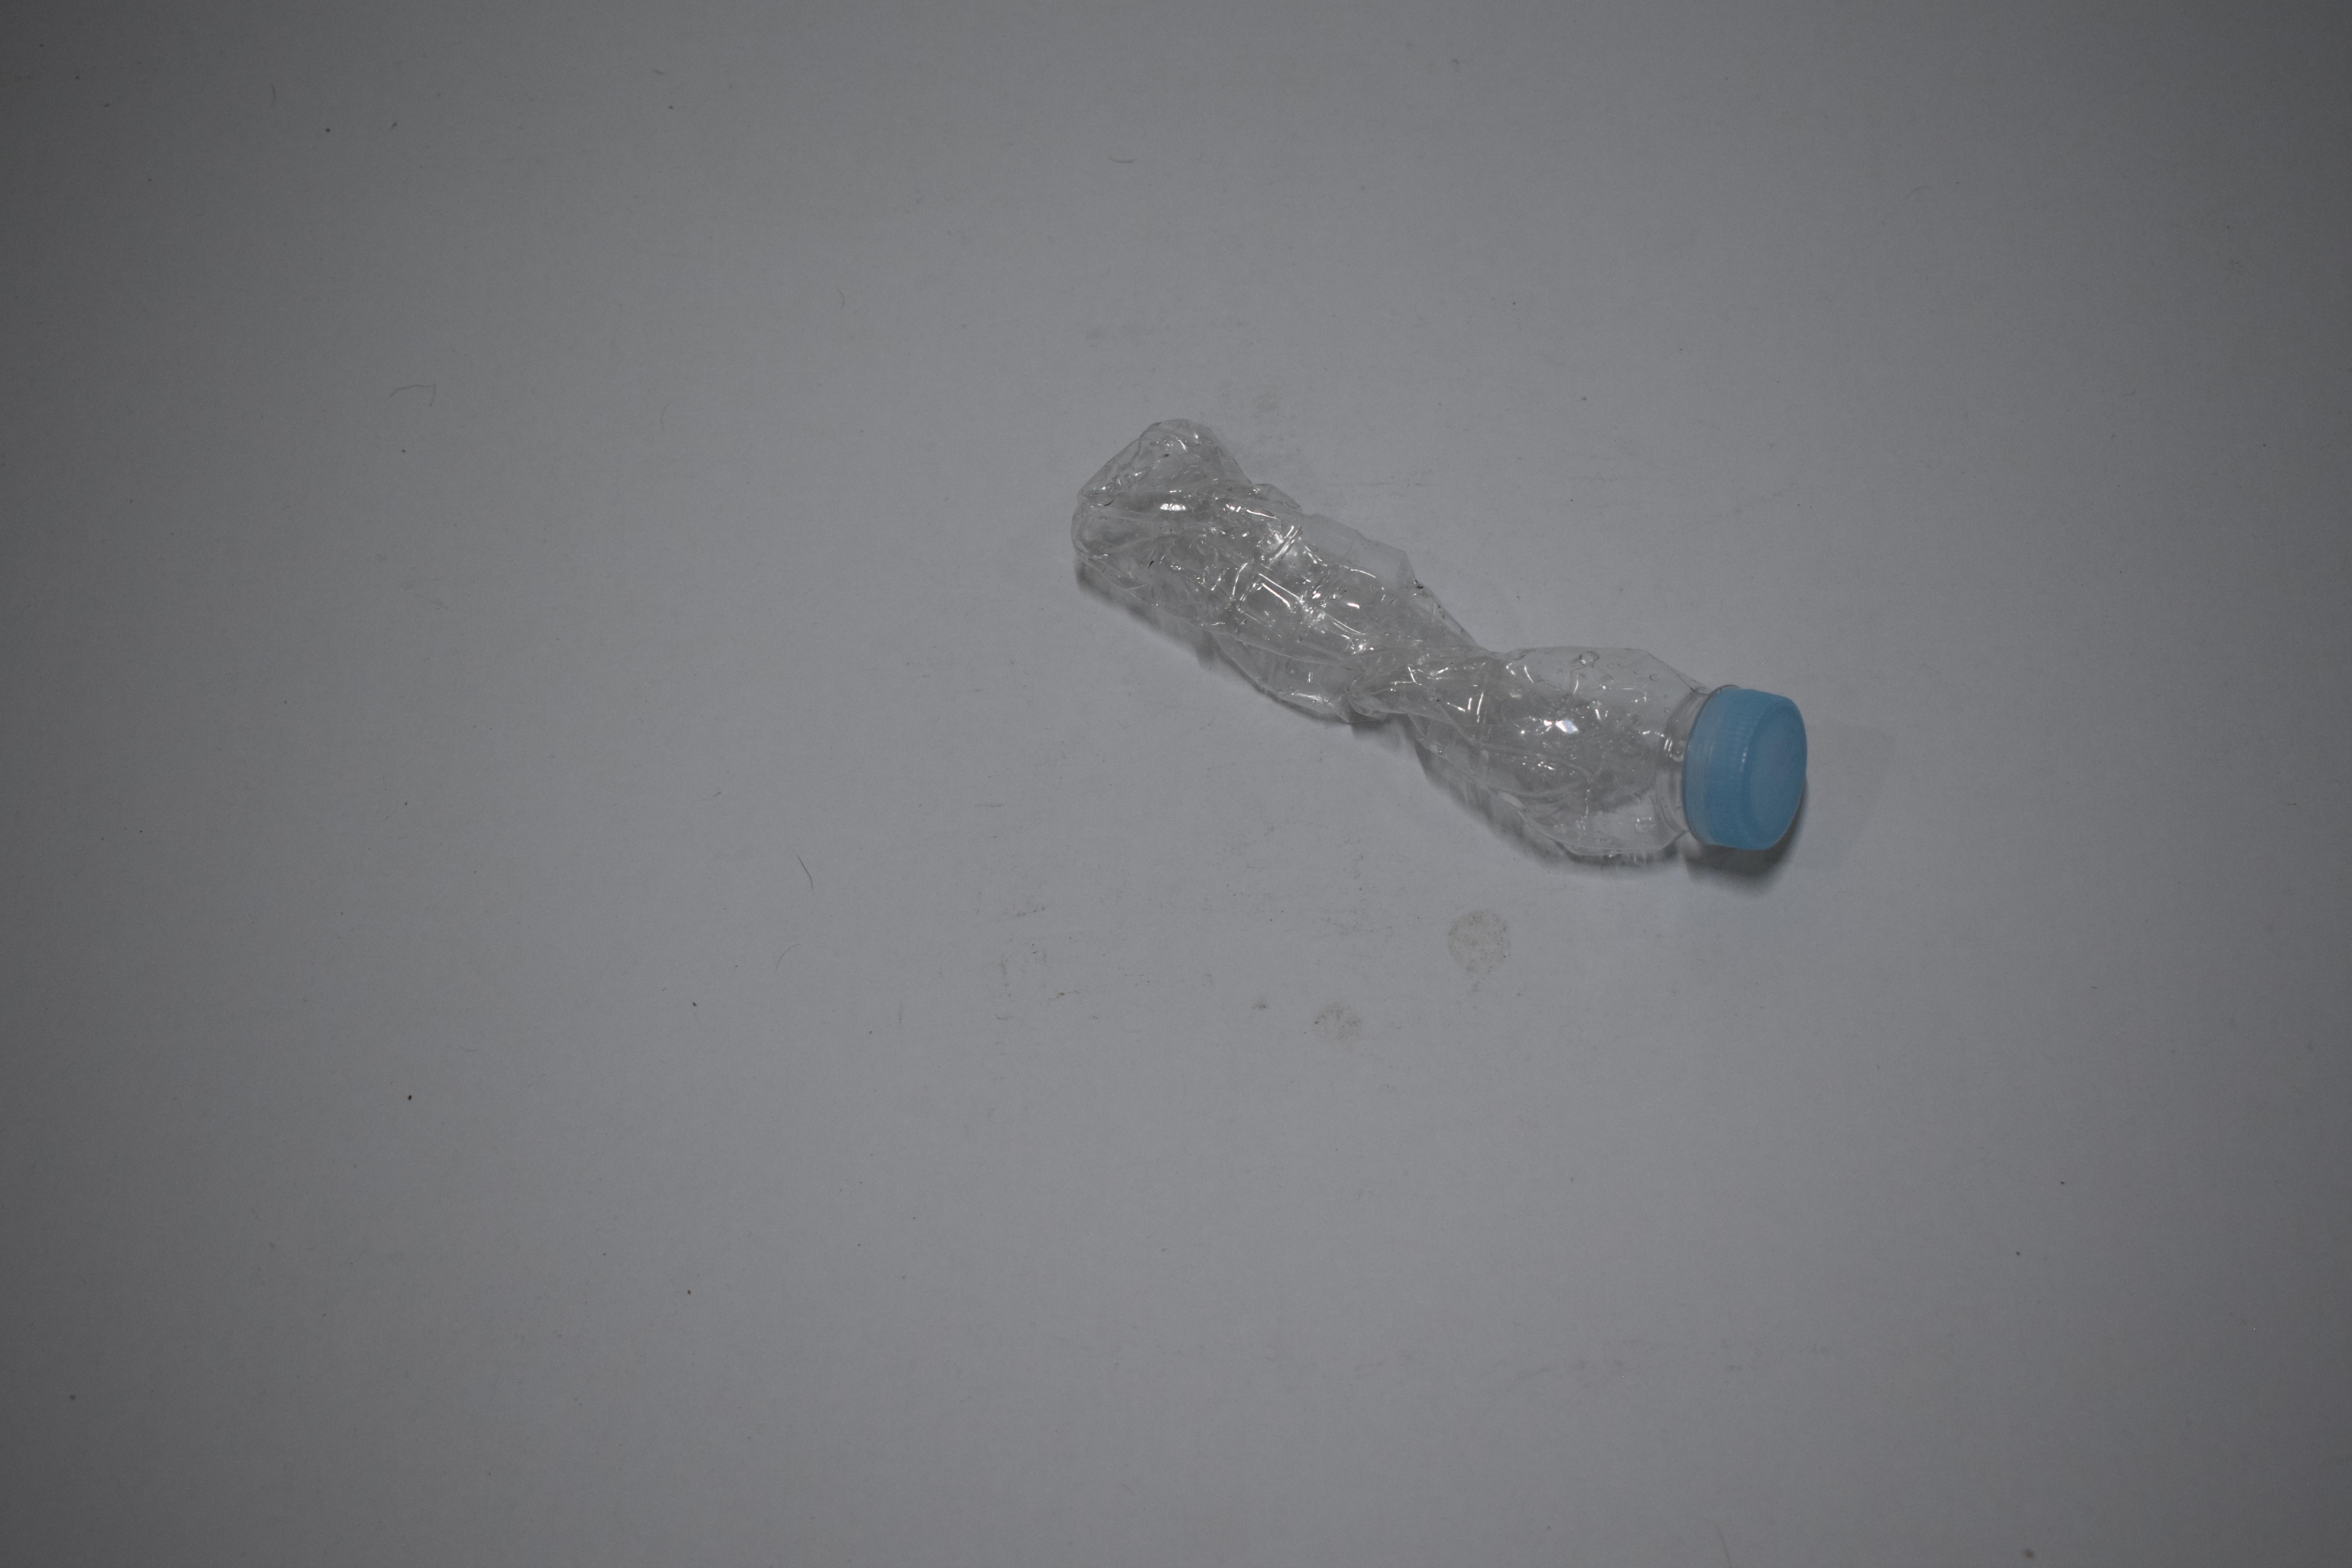bottle: (1066, 411, 1811, 882)
